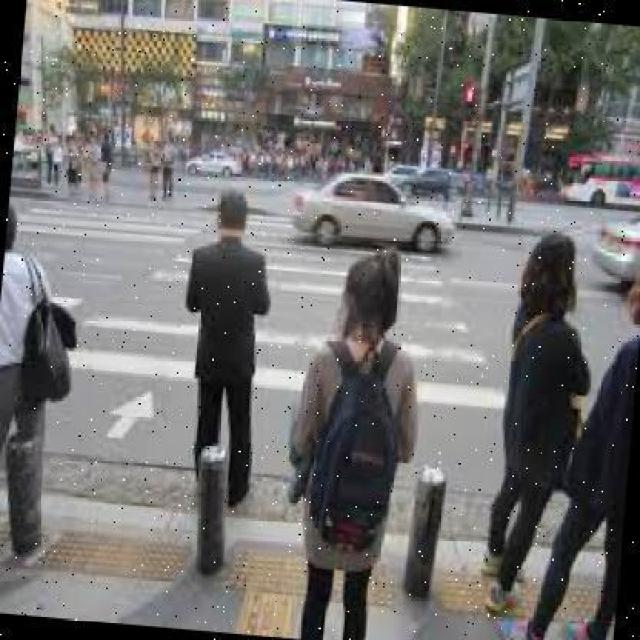Person: (278, 246, 434, 639), (486, 230, 591, 616), (168, 192, 278, 502), (80, 132, 106, 198), (61, 136, 85, 199), (158, 134, 180, 198), (145, 138, 163, 197)
